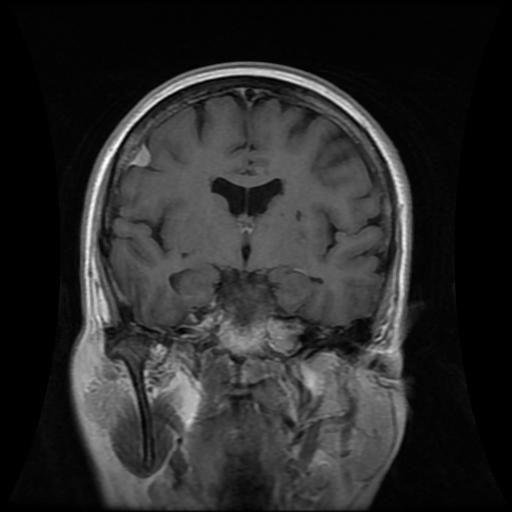Menigiomia_tumour: (131, 141, 150, 165)
